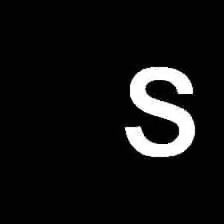LTR_S: (121, 62, 199, 159)
